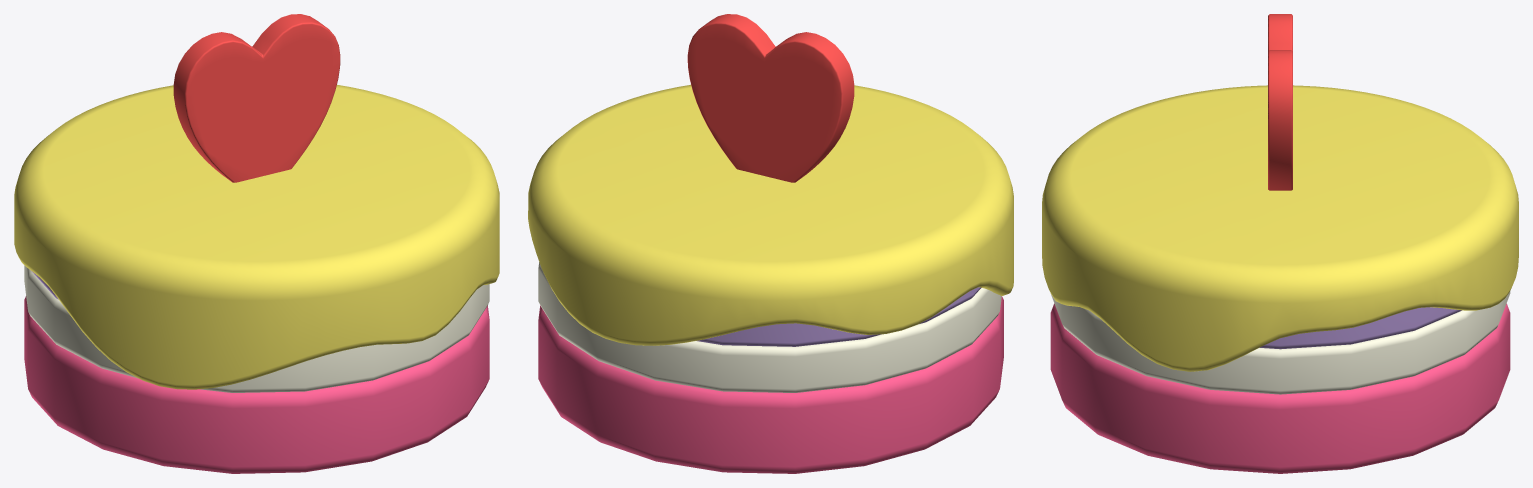
File: Town_16_Dessert_1.glb
3 views of the same model, side by side, from view 1: azimuth 30°, elevation 25°; view 2: azimuth 150°, elevation 25°; view 3: azimuth 270°, elevation 25° (orthographic).
Visible parts, largest first — view 1: Town_16_Dessert_1; view 2: Town_16_Dessert_1; view 3: Town_16_Dessert_1.
Part boxes in pixels (box(x1,y1,x2,y2)): Town_16_Dessert_1: box(14, 14, 499, 473); Town_16_Dessert_1: box(528, 14, 1013, 473); Town_16_Dessert_1: box(1042, 14, 1518, 473).
Size of the model in its own units: 0.1741 by 0.1391 by 0.1736.
1 material, 1 textured.
